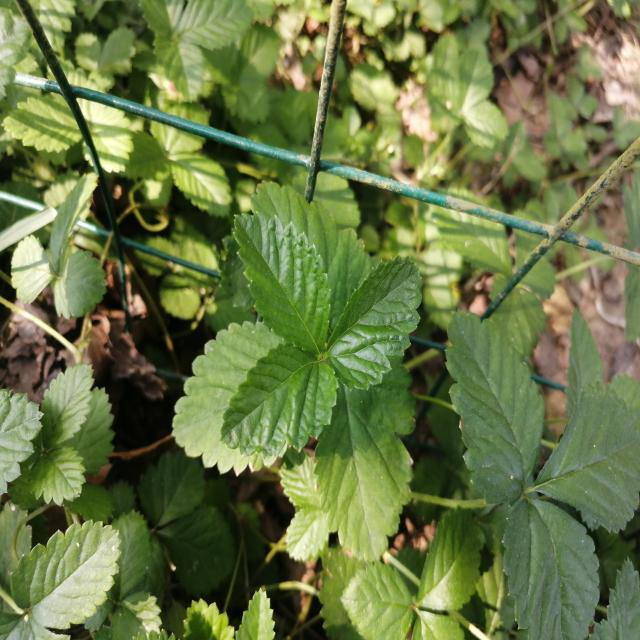Mock_strawberry: (435, 314, 632, 628)
